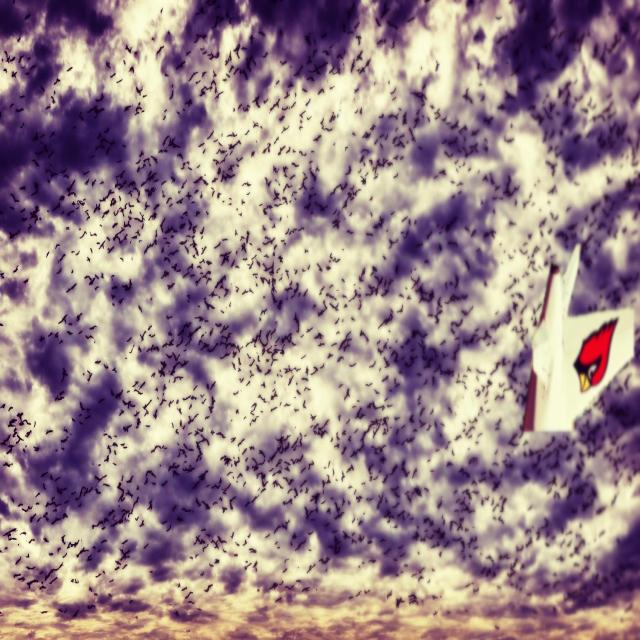airplane: (521, 242, 635, 433)
